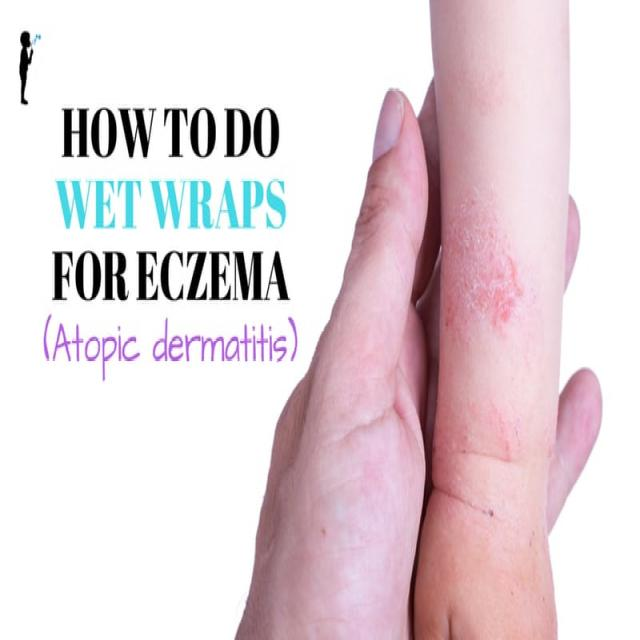eczema: (445, 182, 518, 354)
